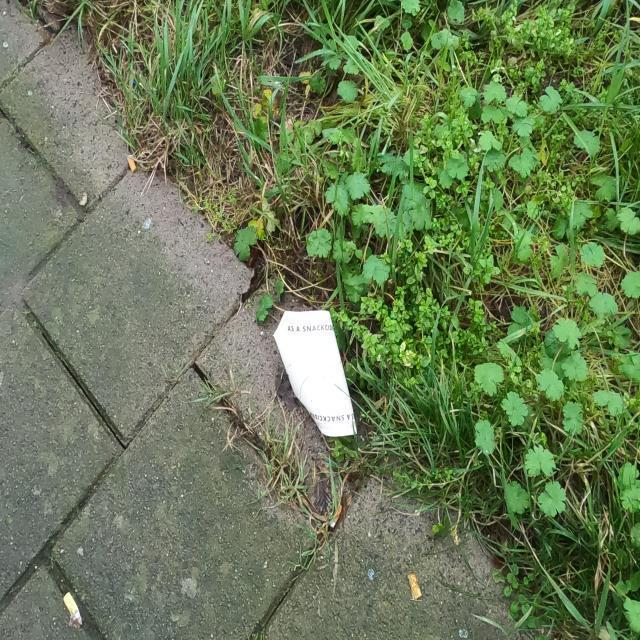Paper: (271, 307, 358, 440)
